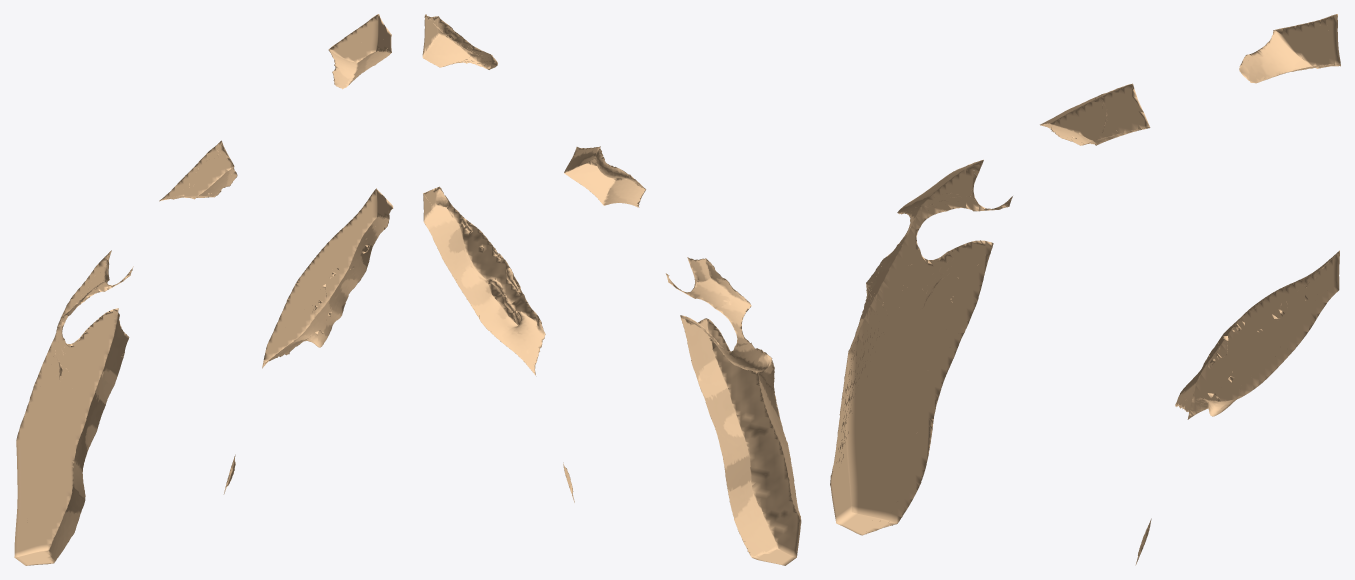
File: Qns1.gltf
3 renders of one model, left to right at view 1: azimuth 30°, elevation 25°; view 2: azimuth 150°, elevation 25°; view 3: azimuth 330°, elevation 25°, orthographic. The views are drawn at different scales.
Parts seen in each view (by area): view 1: Switch_Switch_osgPicked_gmeGeoEntityGeode_Geometry_0, Switch_Switch_osgPicked_gmeGeoEntityGeode_Geometry_Geometry_ (×3); view 2: Switch_Switch_osgPicked_gmeGeoEntityGeode_Geometry_0, Switch_Switch_osgPicked_gmeGeoEntityGeode_Geometry_Geometry_ (×3); view 3: Switch_Switch_osgPicked_gmeGeoEntityGeode_Geometry_0, Switch_Switch_osgPicked_gmeGeoEntityGeode_Geometry_Geometry_ (×3).
Part boxes in pixels (x1,y1,x2,y2): Switch_Switch_osgPicked_gmeGeoEntityGeode_Geometry_0: [14, 250, 133, 565]; Switch_Switch_osgPicked_gmeGeoEntityGeode_Geometry_Geometry_ (×3): [159, 14, 393, 368]; Switch_Switch_osgPicked_gmeGeoEntityGeode_Geometry_0: [665, 257, 801, 565]; Switch_Switch_osgPicked_gmeGeoEntityGeode_Geometry_Geometry_ (×3): [422, 14, 645, 375]; Switch_Switch_osgPicked_gmeGeoEntityGeode_Geometry_0: [830, 159, 1012, 535]; Switch_Switch_osgPicked_gmeGeoEntityGeode_Geometry_Geometry_ (×3): [1040, 14, 1340, 419].
Size of what is drawn, in the model's own units: 38520 by 46686 by 4073.
